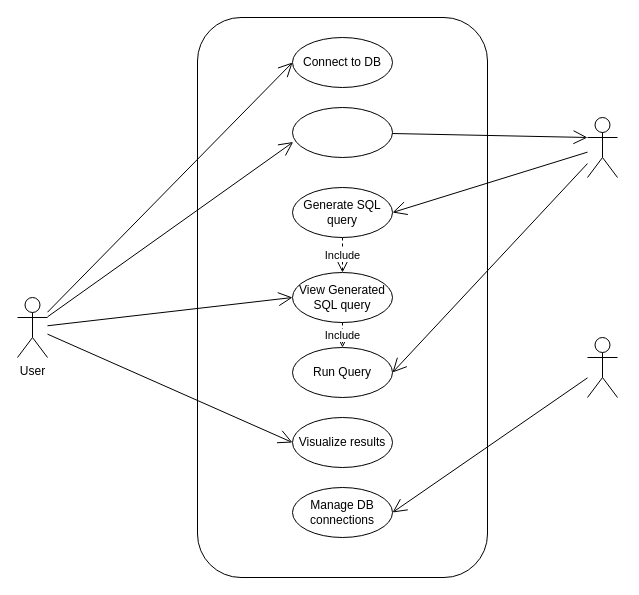
This 639x595 diagram has some shape labels left out. Here are the shapes that lost their labels. From the top down, the centre of each, then its label:
At (x=342, y=132): "Prompt".
At (x=602, y=147): "AI LLM".
At (x=602, y=367): "Admin".
